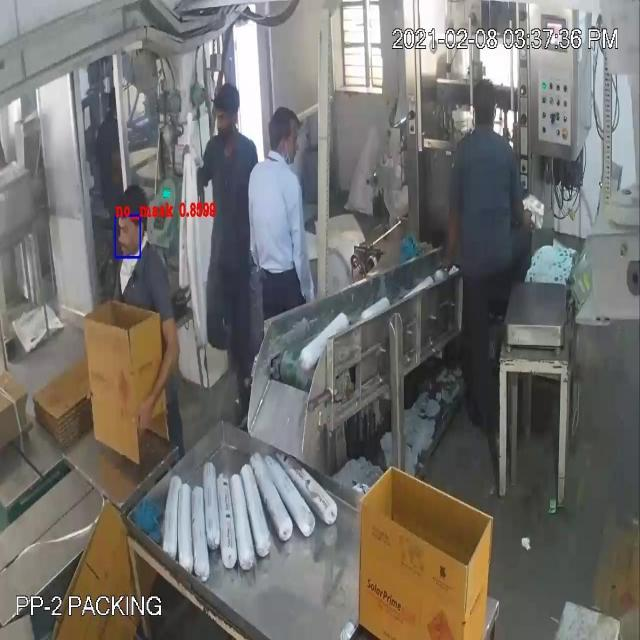No_Gloves: (126, 303, 182, 428)
